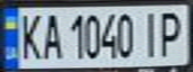0: (115, 9, 139, 60), (81, 10, 103, 60)
1: (63, 10, 84, 60)
4: (100, 10, 121, 60)
A: (39, 10, 63, 61)
I: (139, 8, 163, 59)
K: (15, 9, 45, 61)
P: (154, 7, 187, 58)
